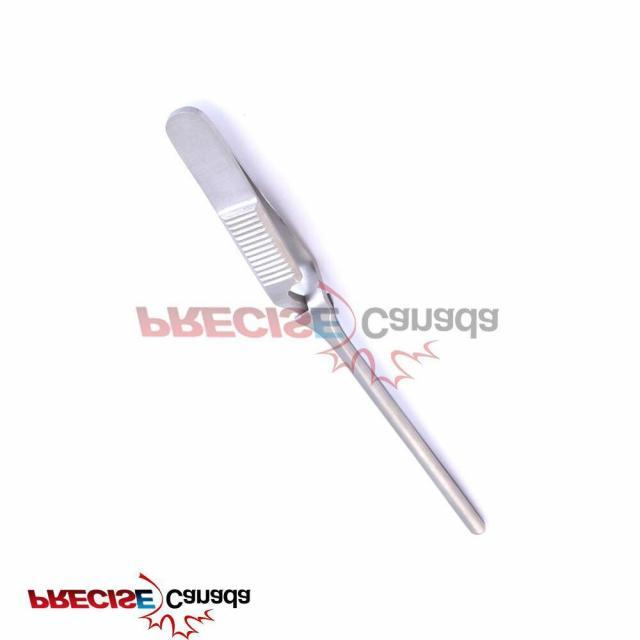Bulldog: (161, 104, 491, 541)
